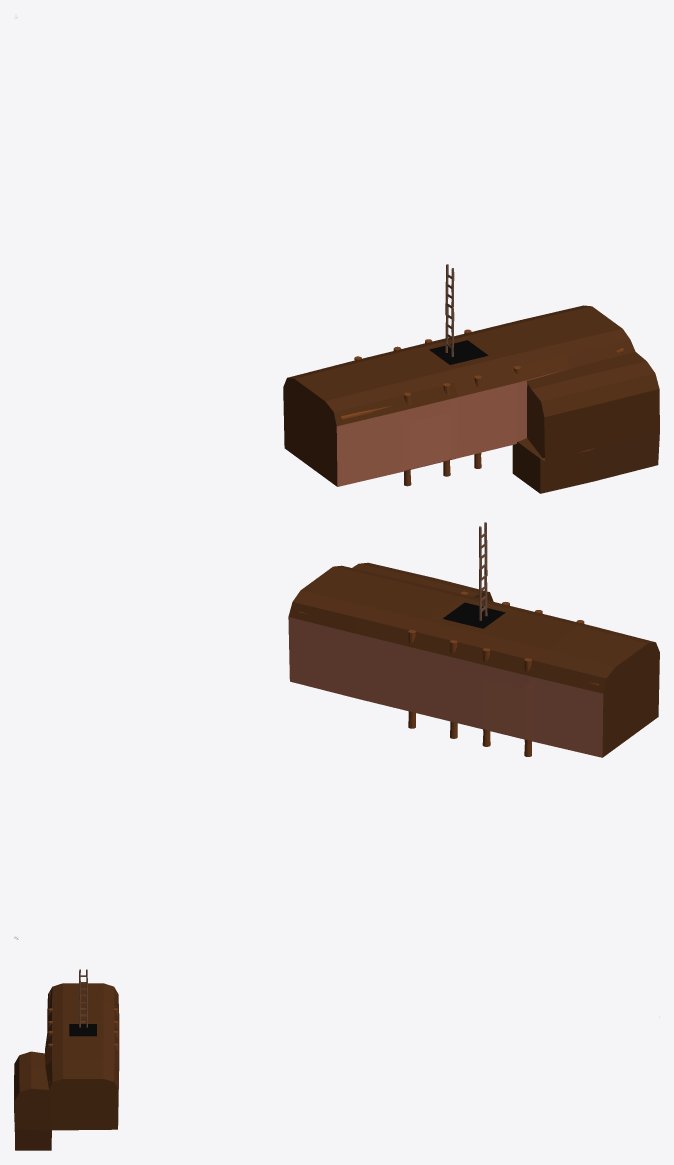
Rendered from parte do fut casarao.fbx.
3 renders of one model, top to bottom at view 1: azimuth 30°, elevation 25°; view 2: azimuth 150°, elevation 25°; view 3: azimuth 270°, elevation 25°, orthographic. The views are drawn at different scales.
Visible parts, largest first — view 1: Cube; view 2: Cube, Circle.001; view 3: Cube, Circle.001.
Part boxes in pixels (bbox=[...]): Cube: bbox=[283, 305, 659, 493]; Cube: bbox=[288, 562, 659, 757]; Circle.001: bbox=[479, 522, 487, 620]; Cube: bbox=[14, 983, 119, 1150]; Circle.001: bbox=[79, 969, 87, 1027].
Size of the model in its own units: 852 by 540 by 2411.
